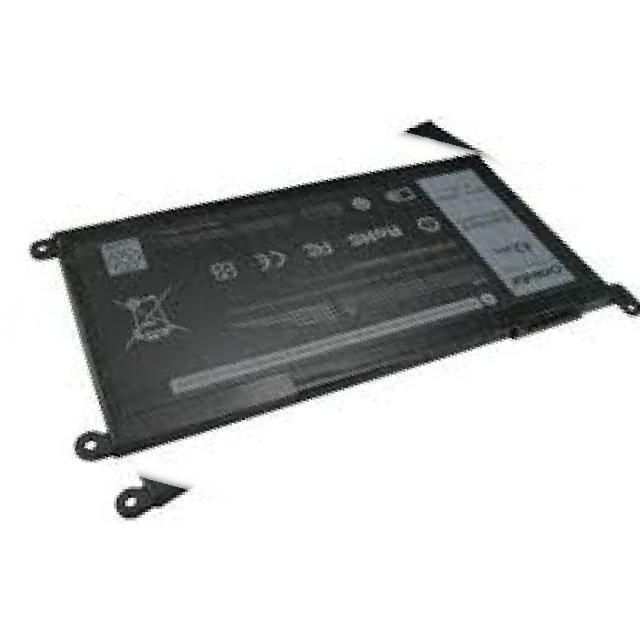Battery: (18, 149, 639, 487)
